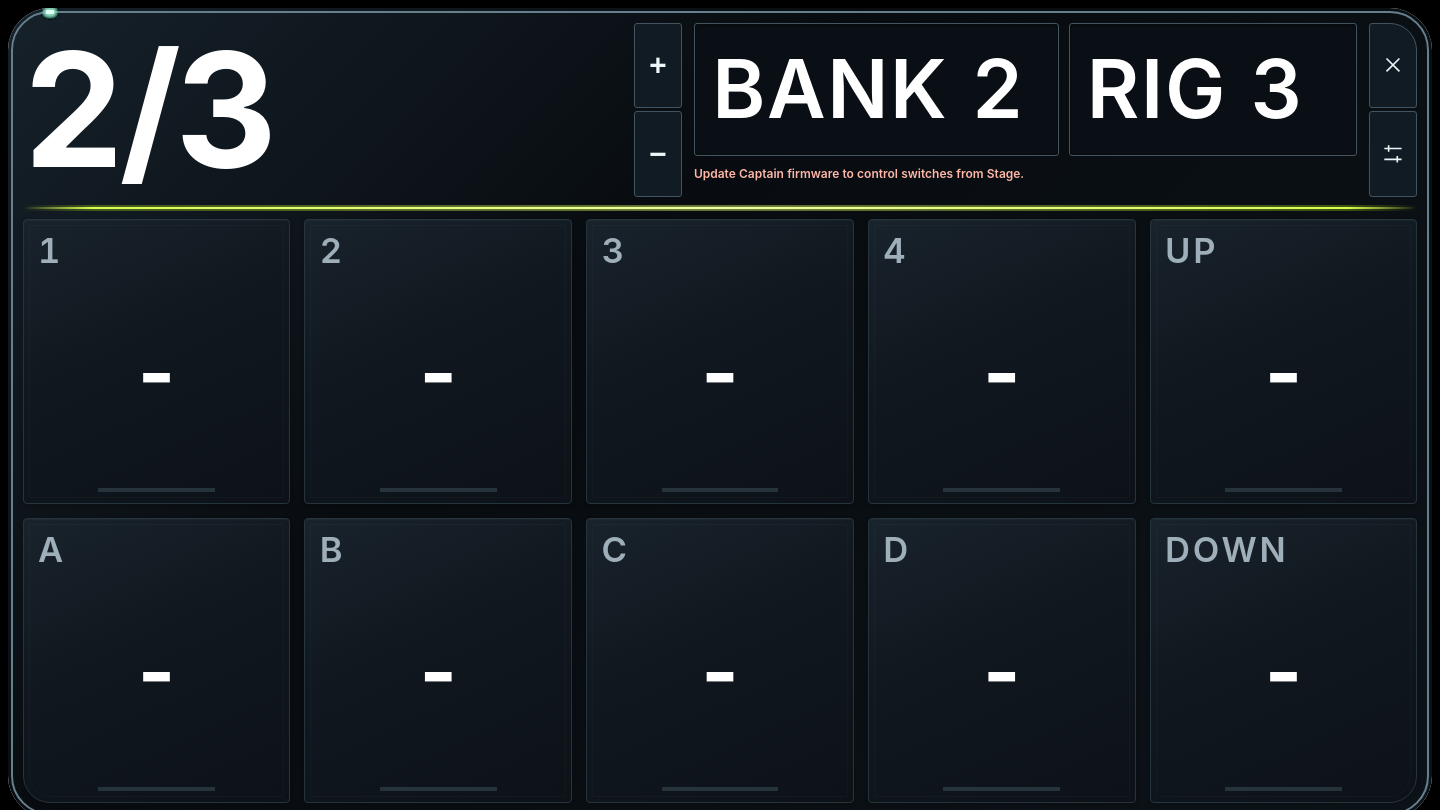
Test: StageView › bank navigation › refuses navigation when inventory belongs to another profile
Click the button named "Next bank".
click(658, 65)  # box top-left (634, 23), bottom-right (682, 108)
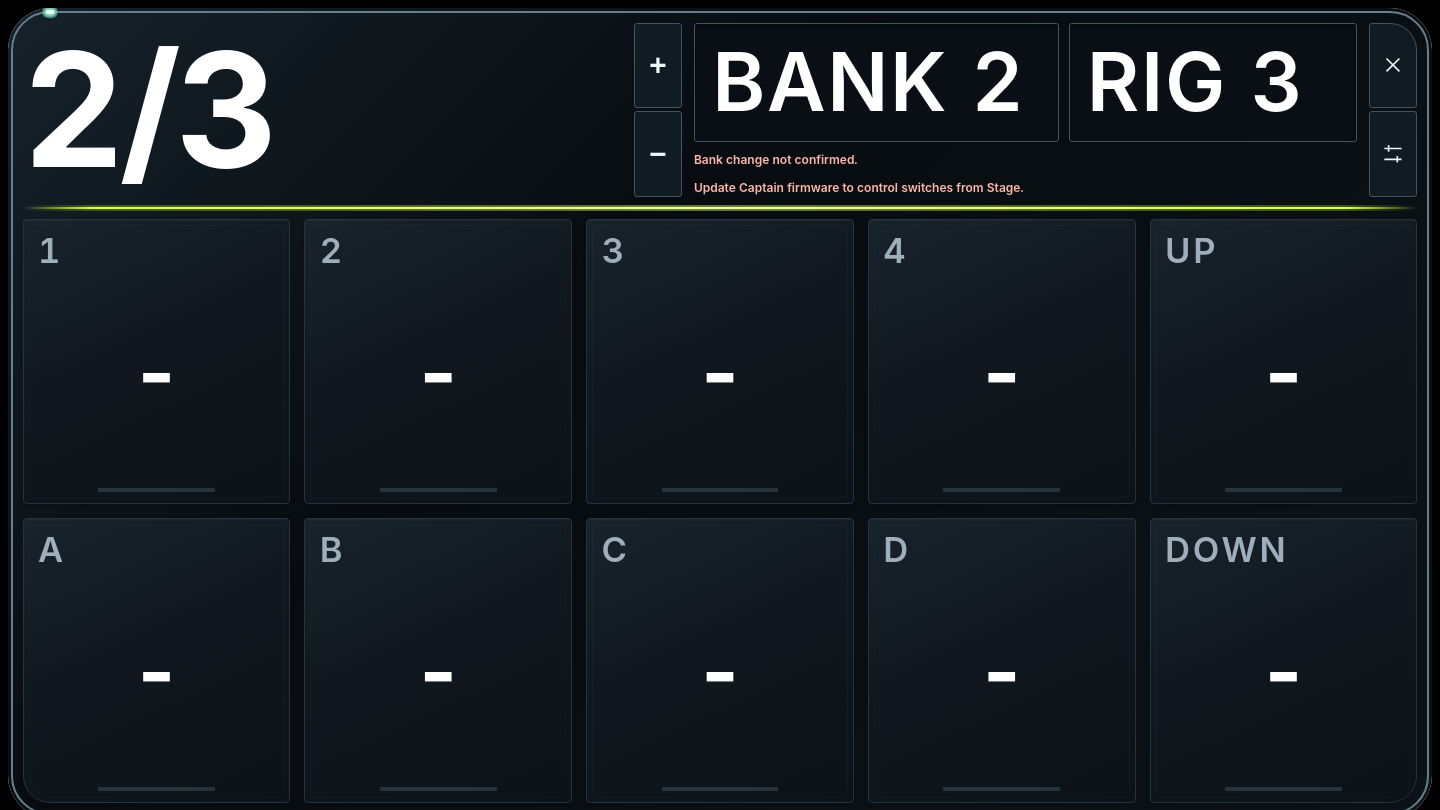
Now the message "Bank change not confirmed." is shown, box top-left (694, 152), bottom-right (858, 167)
